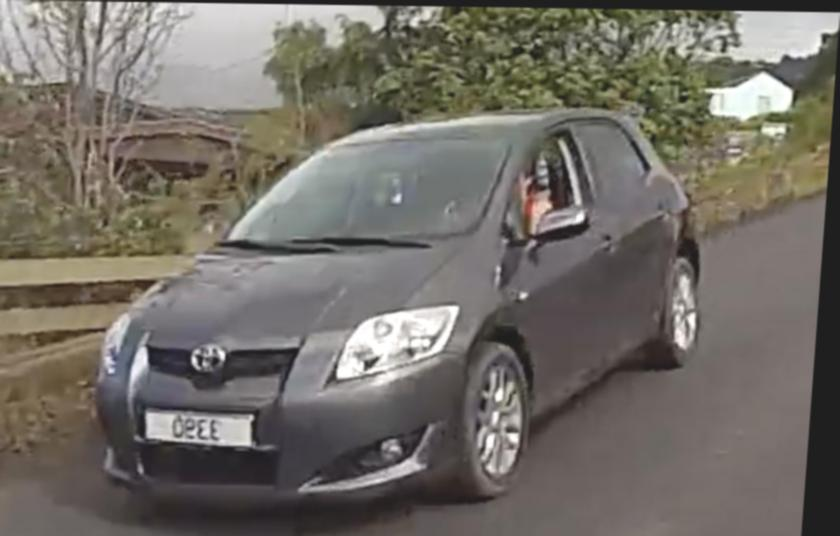License_Plate: (132, 400, 267, 451)
